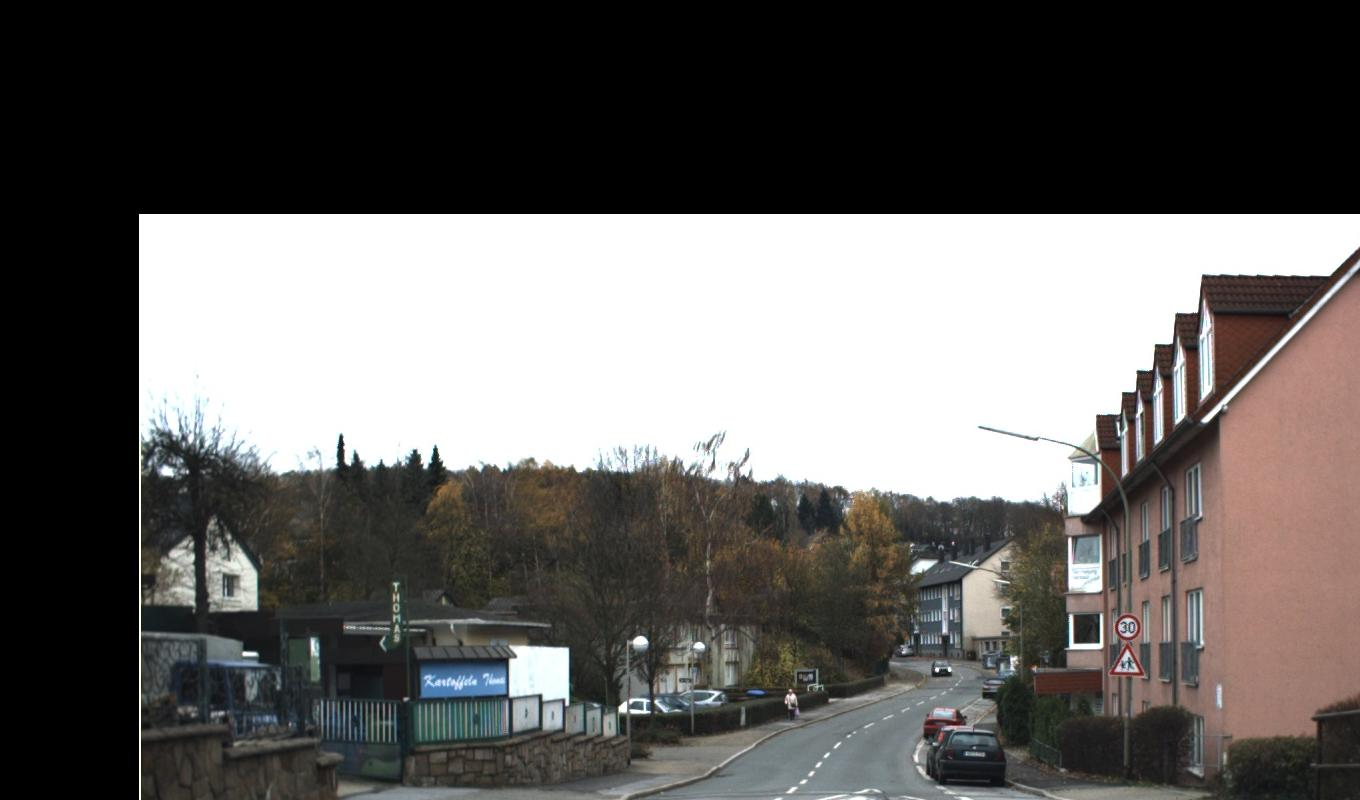speed limit 30: (1107, 612, 1146, 677)
